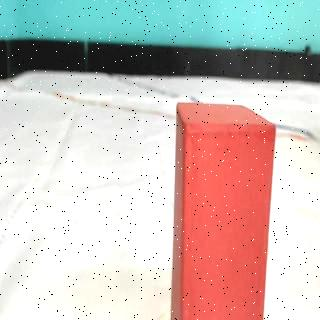redbox: (170, 101, 276, 320)
